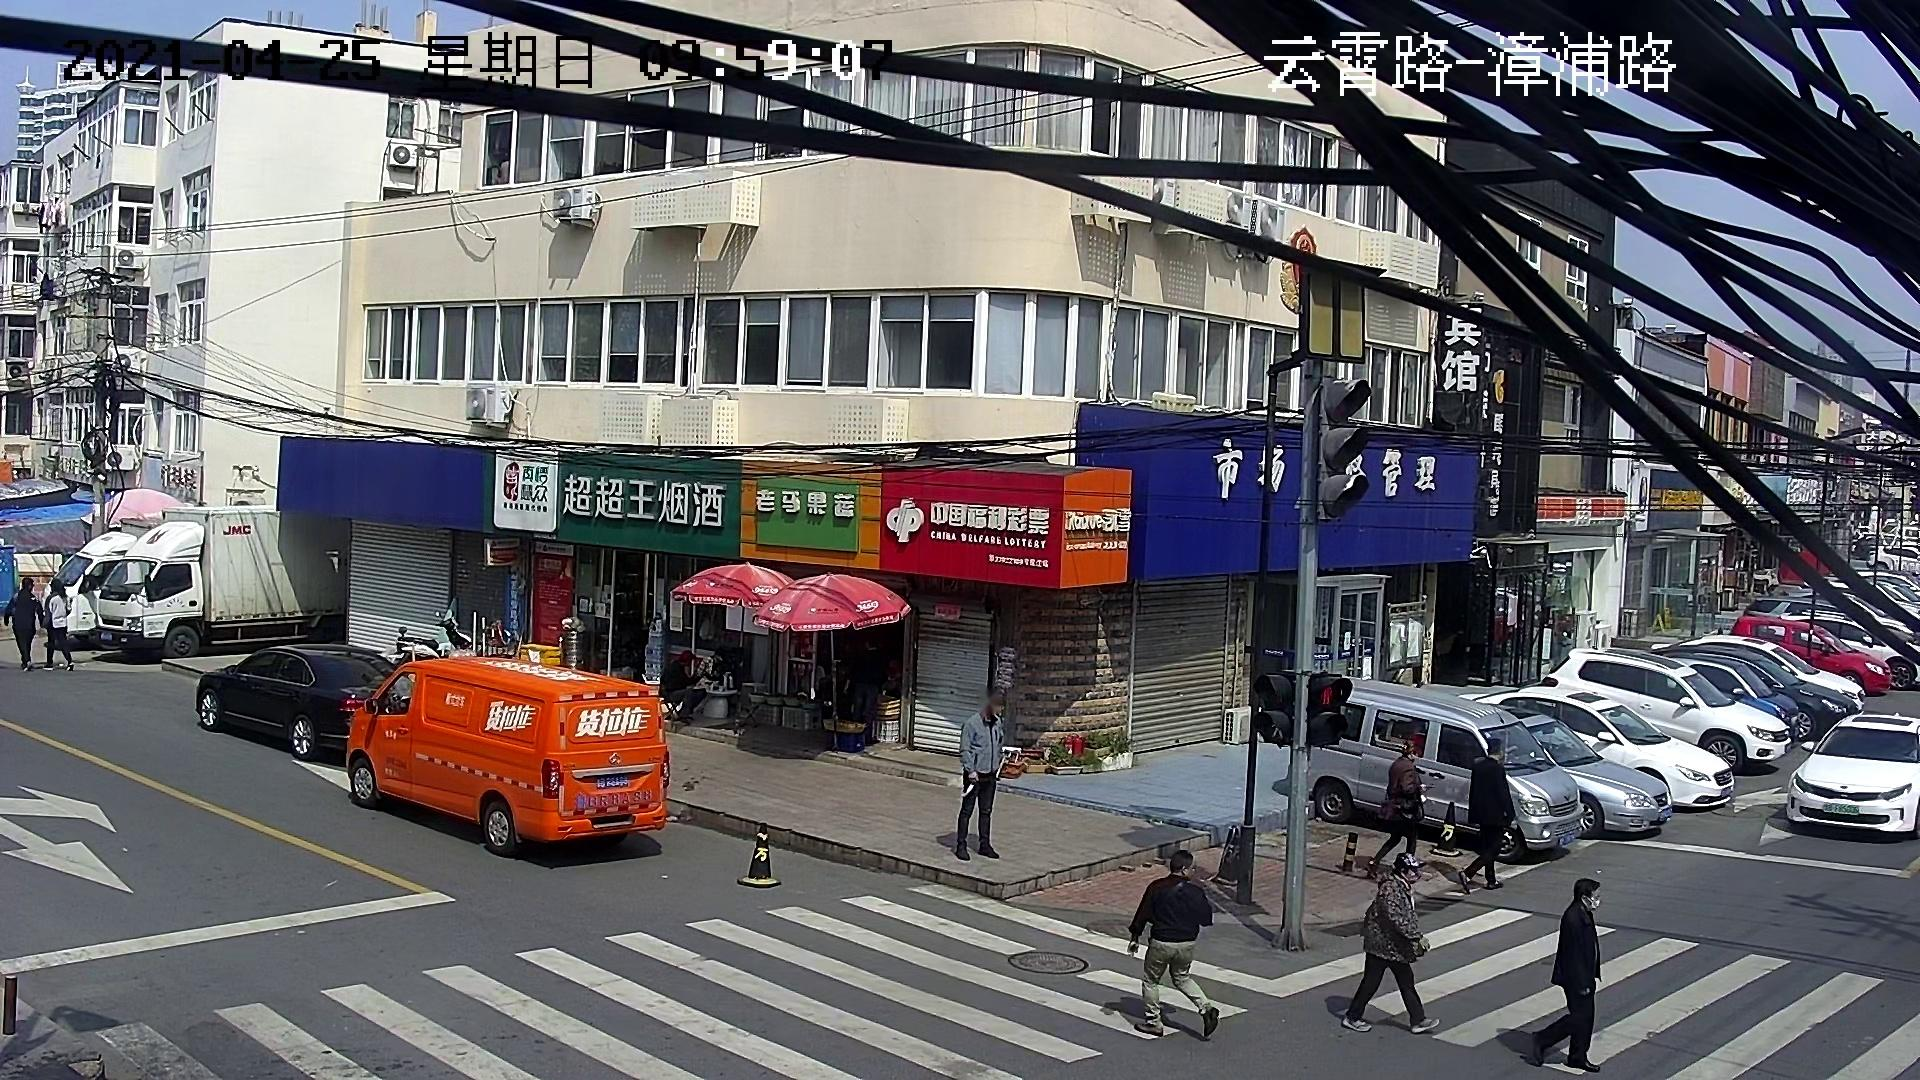umbrella: (749, 571, 913, 633), (669, 559, 798, 611), (80, 487, 185, 529)
